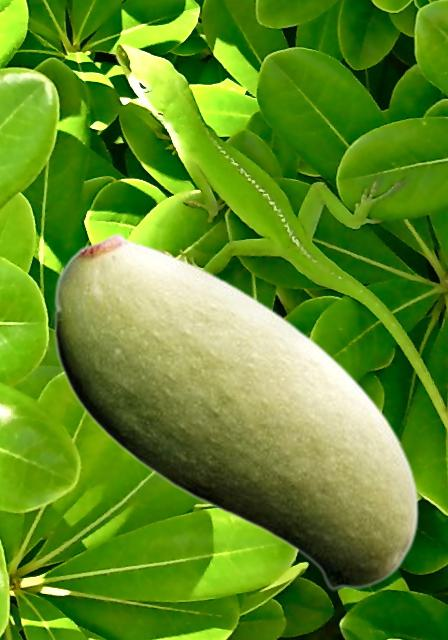green_mango: (53, 231, 418, 590)
